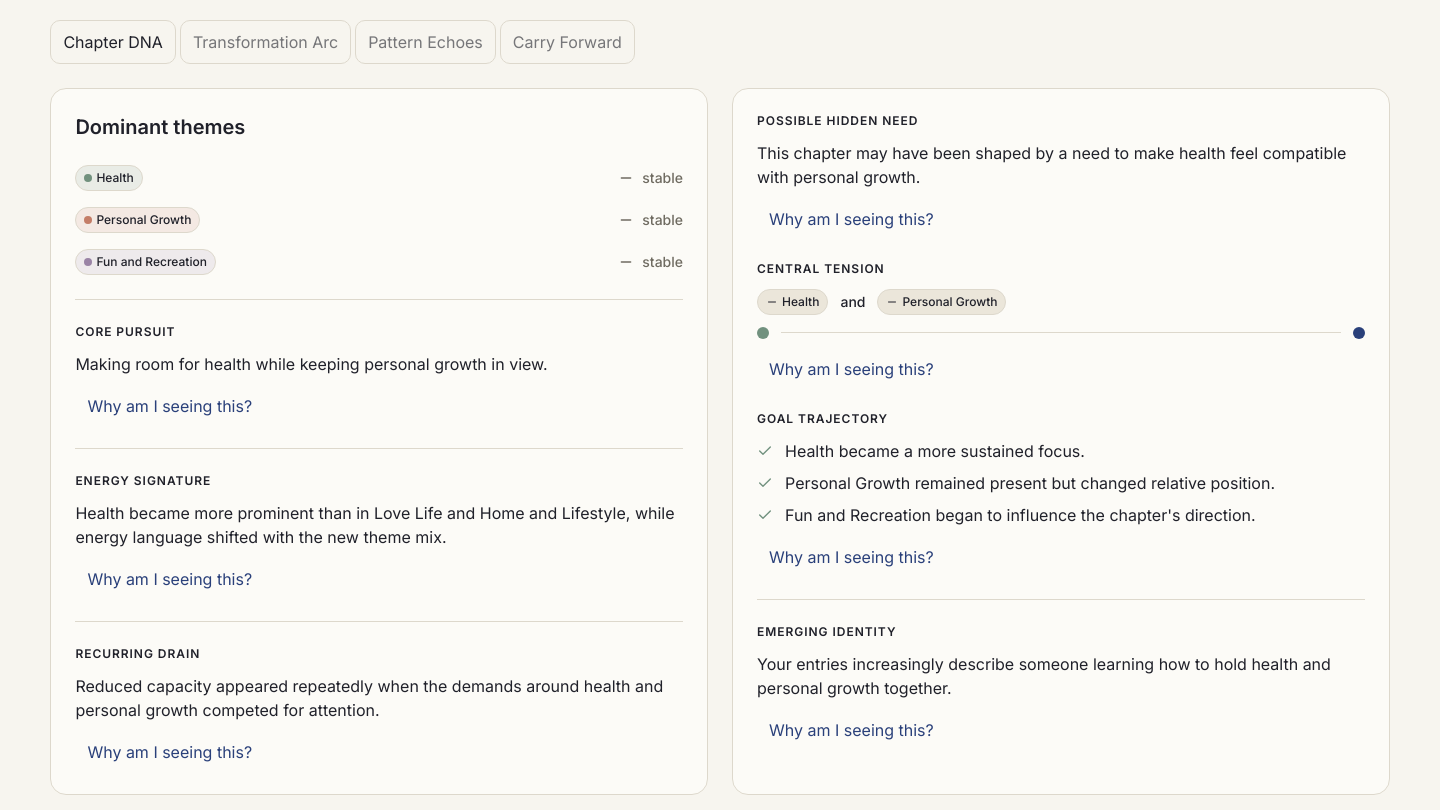
it: JourneyScreen › opens supporting evidence from an interpretation
The width and height of the screenshot is (1440, 810).
(page scrolled)
Click the button "Why am I seeing this?" below "Core pursuit" at (170, 406), box [75, 388, 264, 424]
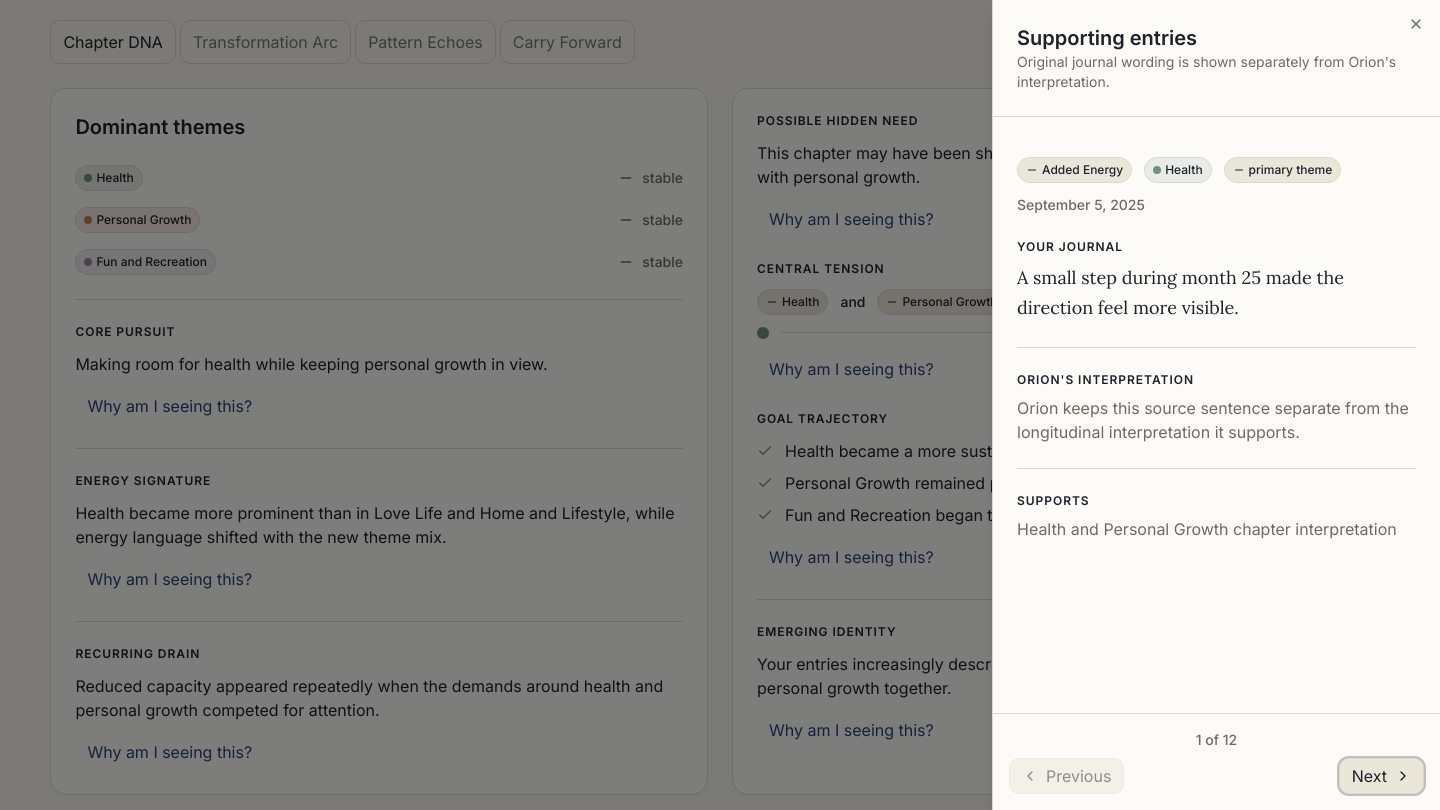
expect the heading "Supporting entries" is shown: met, box [1017, 26, 1197, 50]
expect the text "Your journal" is shown: met, box [1017, 239, 1123, 254]
